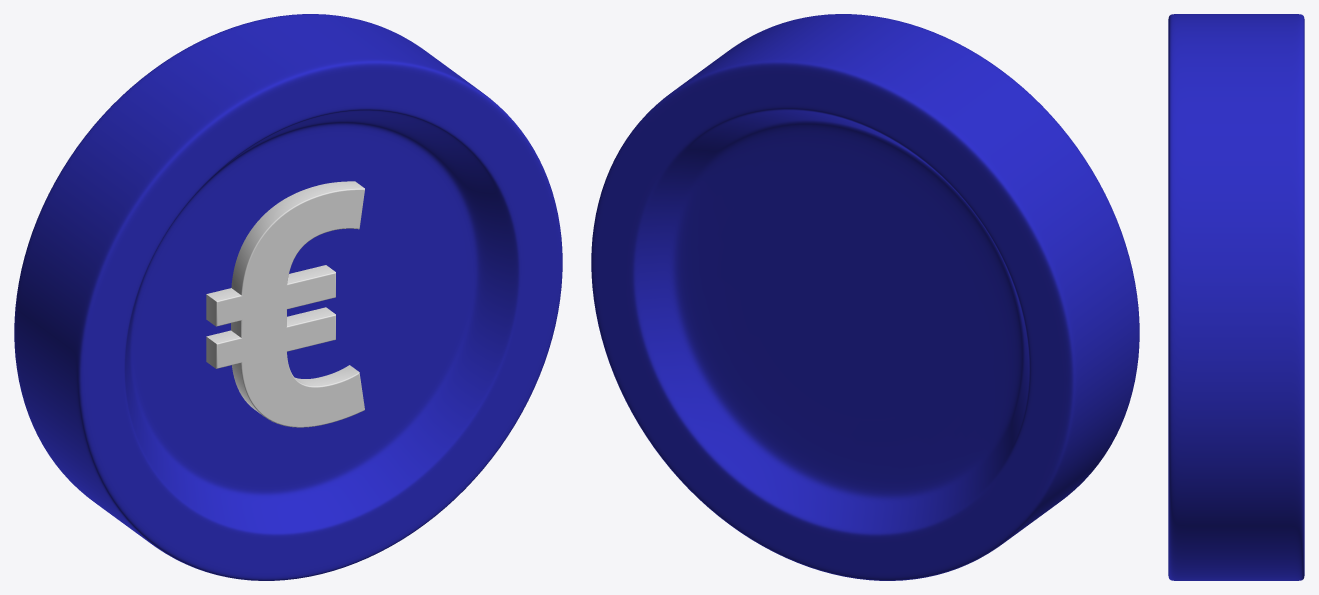
Rendered from euro.glb.
3 renders of one model, left to right at view 1: azimuth 30°, elevation 25°; view 2: azimuth 150°, elevation 25°; view 3: azimuth 270°, elevation 25°, orthographic.
Visible parts, largest first — view 1: Euro; view 2: Euro; view 3: Euro.
Part boxes in pixels (x1,y1,x2,y2): Euro: [14, 14, 562, 580]; Euro: [591, 14, 1139, 580]; Euro: [1168, 14, 1304, 580].
Size of the model in its own units: 1.86 by 1.86 by 0.448.
